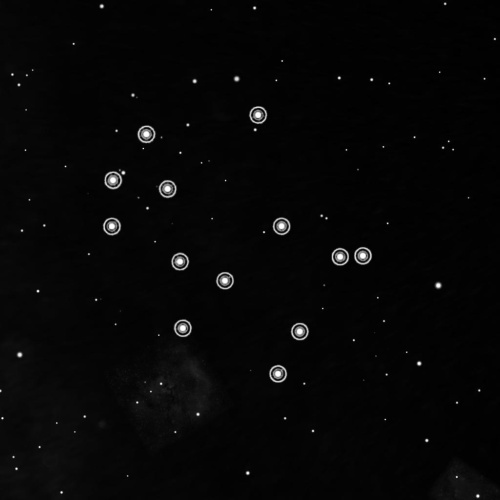gemini: (94, 96, 378, 396)
